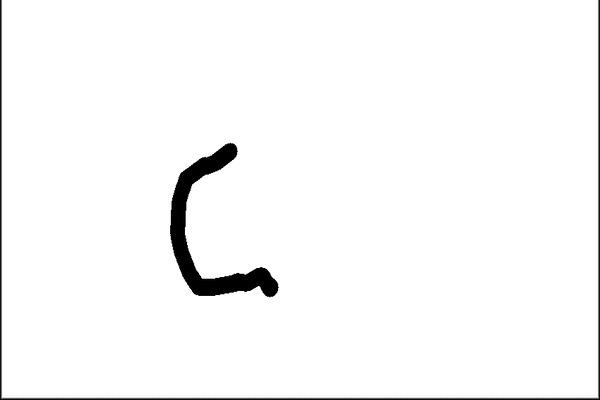C: (164, 136, 291, 304)
